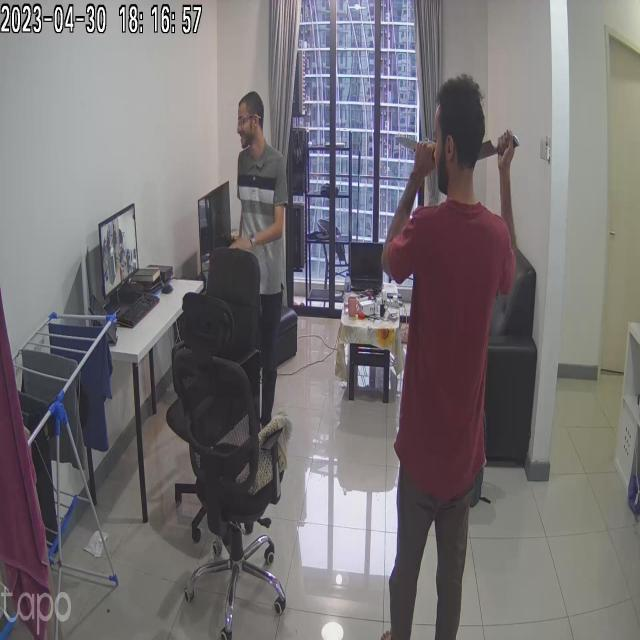Knife: (391, 120, 435, 168), (485, 127, 525, 163)
